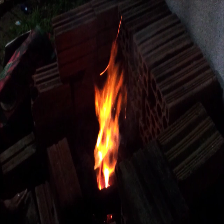fire_h: (94, 16, 128, 190)
fire_l: (108, 214, 112, 218)
